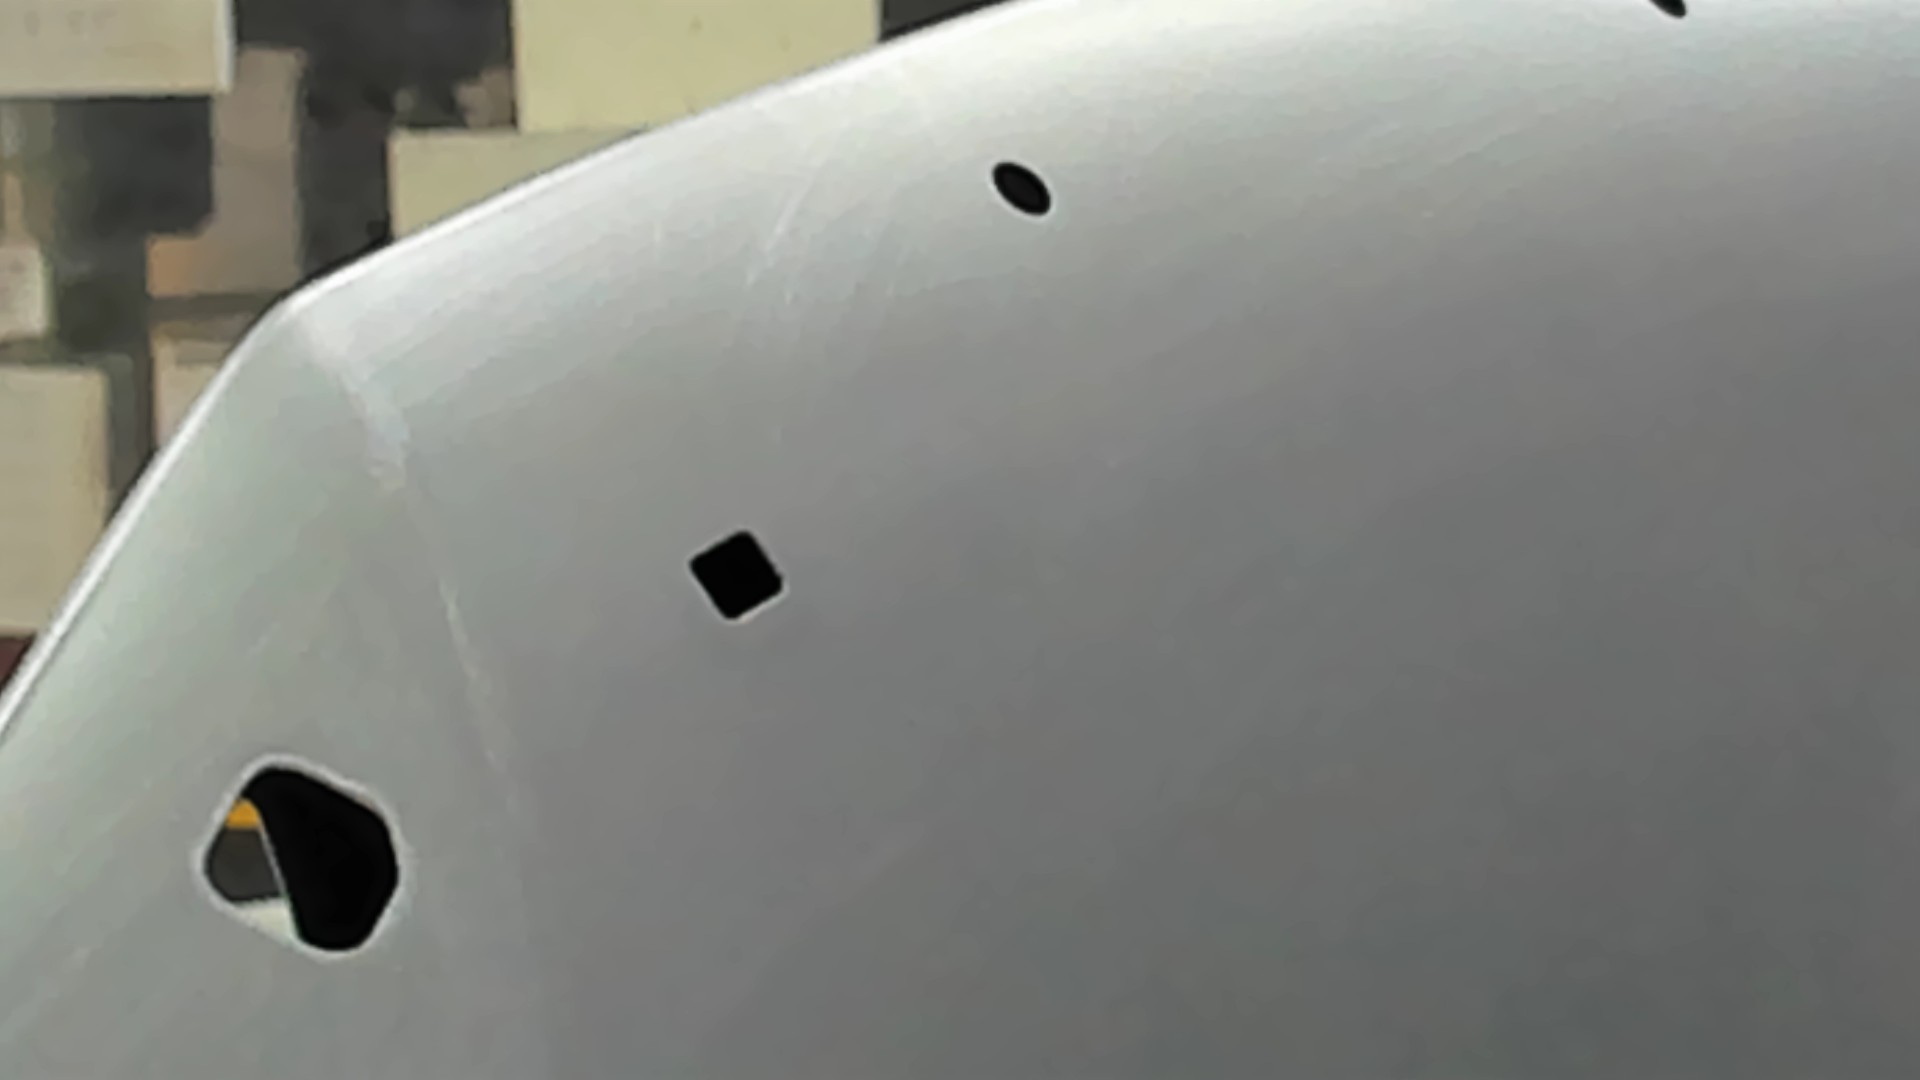chico: (986, 156, 1058, 219), (1648, 1, 1691, 24)
grande: (193, 746, 410, 967)
mediano: (680, 518, 793, 632)
